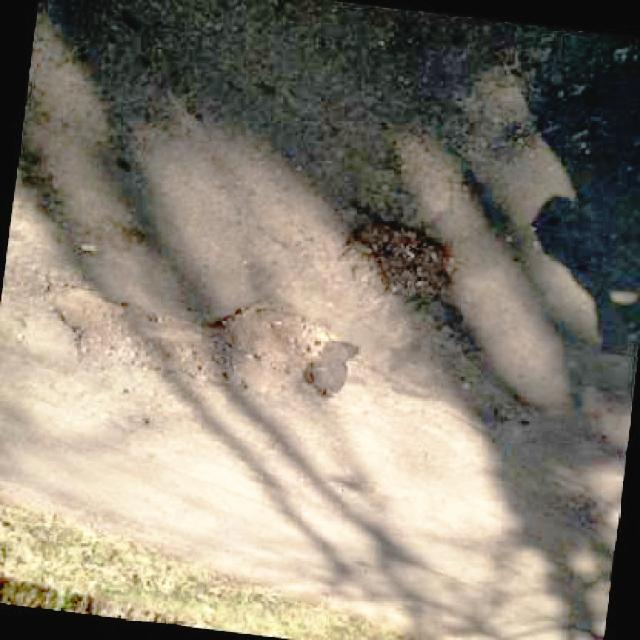pothole: (32, 272, 338, 397), (326, 209, 462, 305)
